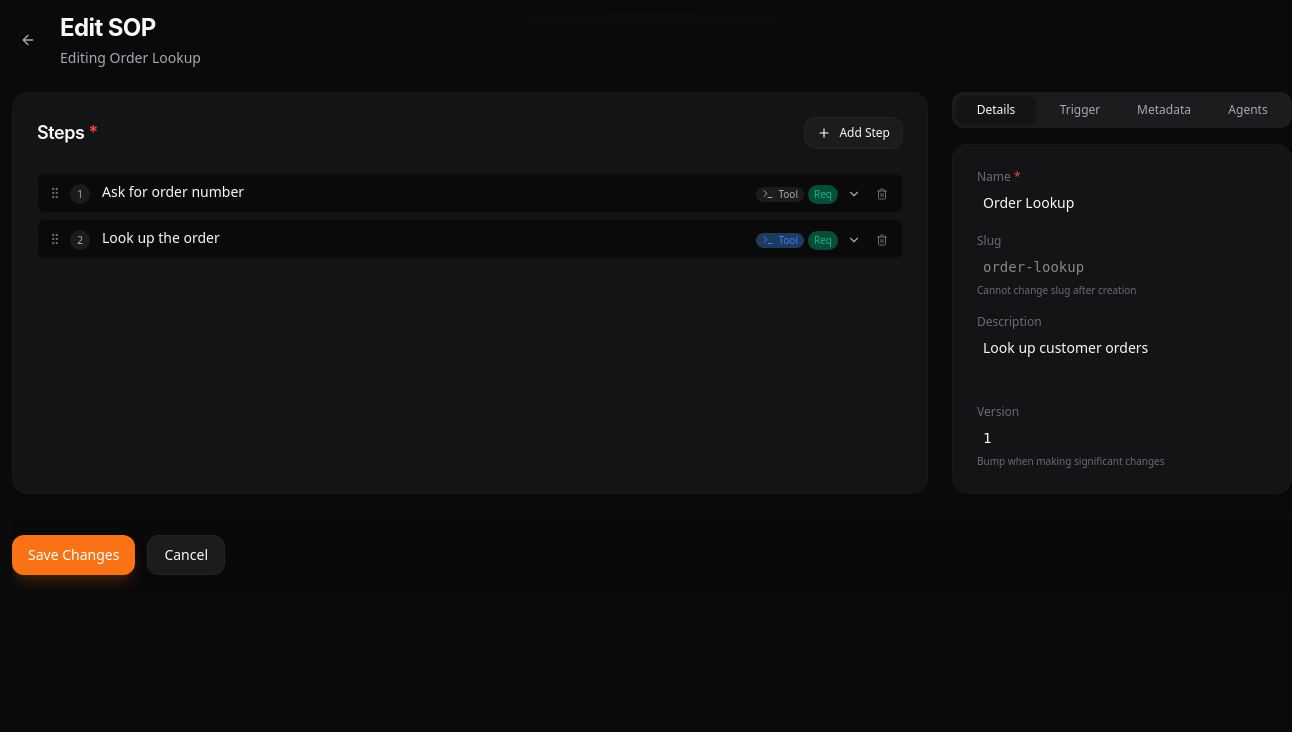
it: EditSopPage › pre-selects assigned agents
Check: the heading "Edit SOP" is shown, box left=60, top=13, right=156, bottom=42
Click the button "Agents" at (1248, 110), box left=1208, top=96, right=1288, bottom=124
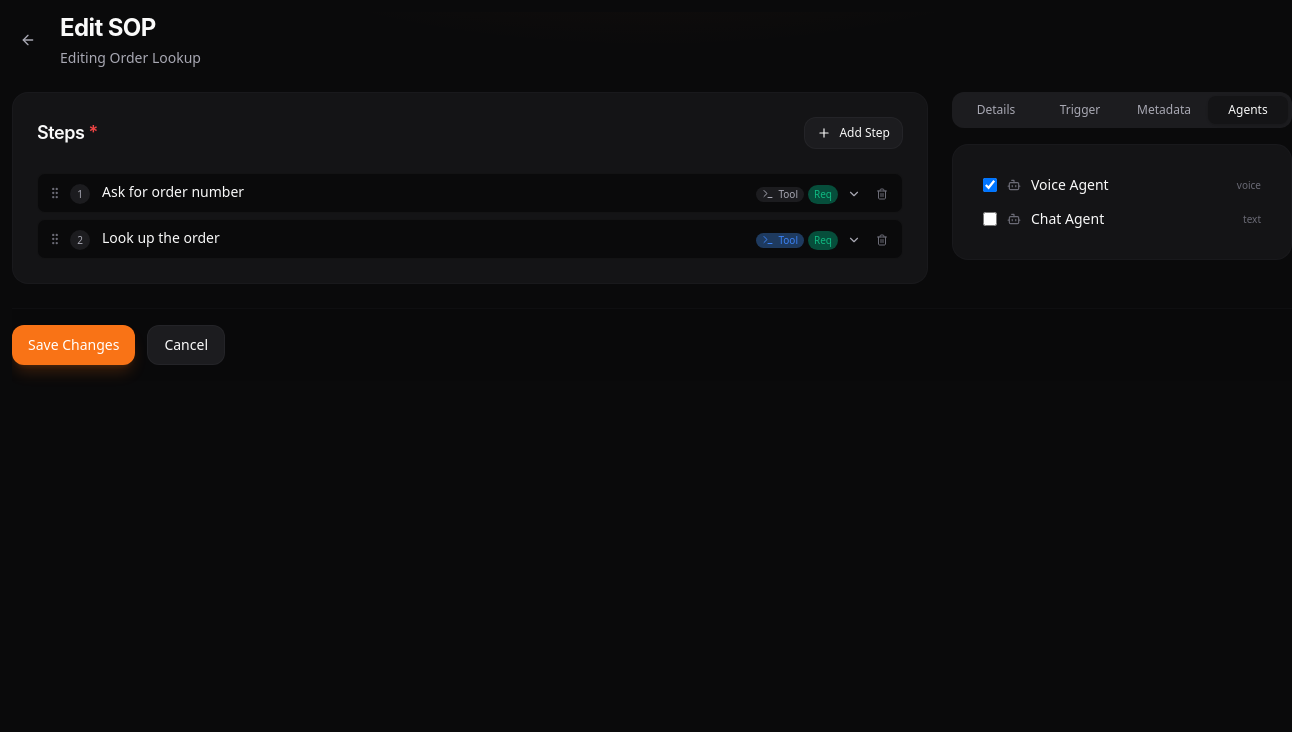
Check: the text "Voice Agent" is shown, box left=1031, top=175, right=1109, bottom=194
Check: the checkbox labelled "Voice Agent voice" is checked, box left=983, top=178, right=997, bottom=192
Check: the checkbox labelled "Chat Agent text" is not checked, box left=983, top=212, right=997, bottom=226
